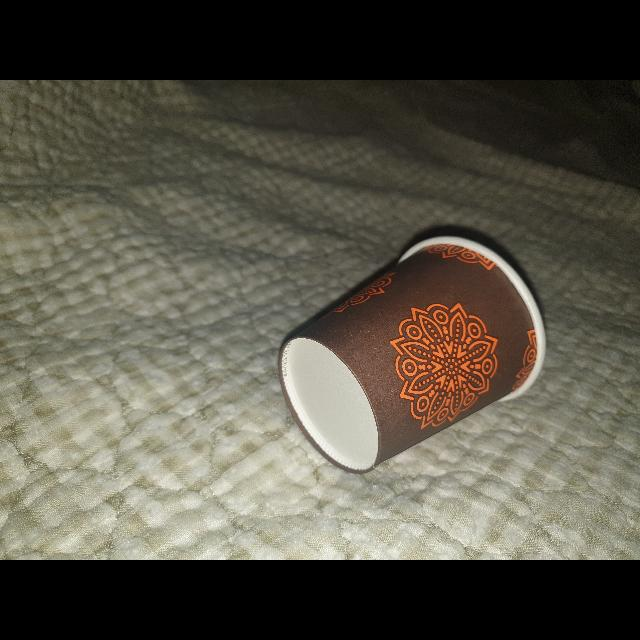trash: (266, 229, 554, 476)
